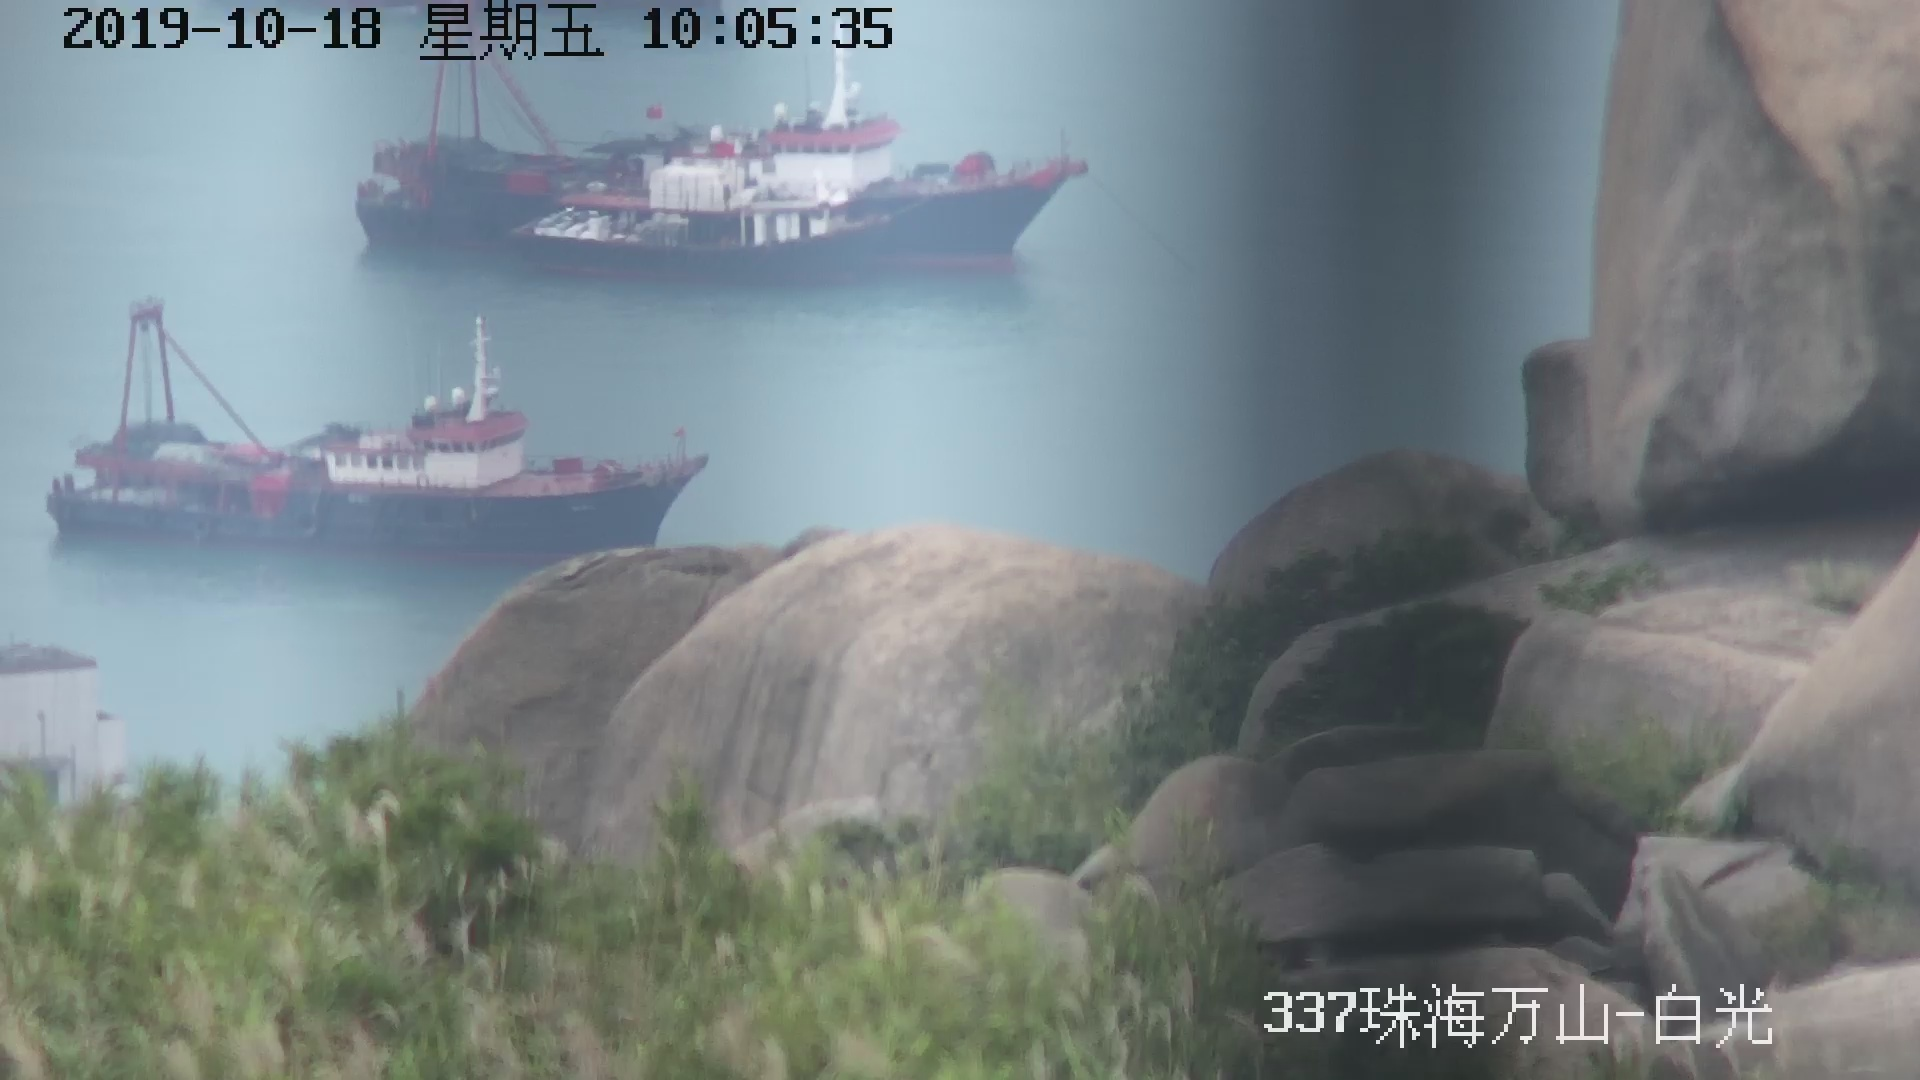ship: (364, 22, 1080, 278), (41, 281, 704, 545)
